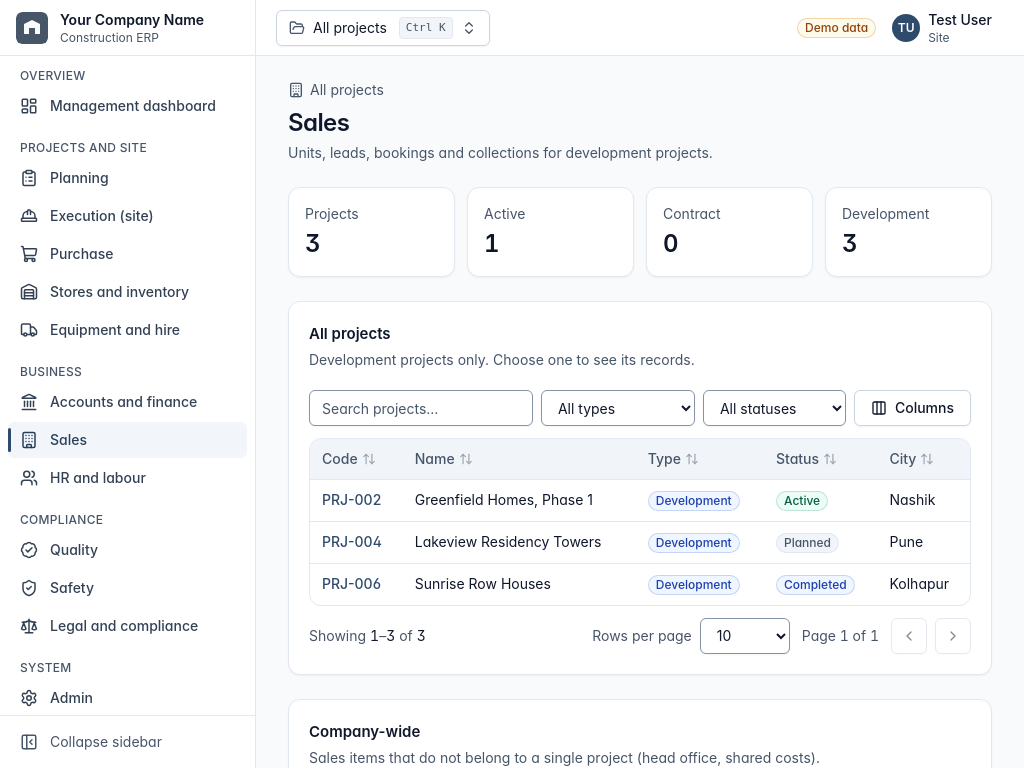
Test case: project switcher › in Sales, lists development projects only
Check: the button "PRJ-002" is shown, box x1=322 y1=490 x2=381 y2=510
Click the button with aria-label "Project: ". click: coordinates (383, 28)
box: x1=276 y1=10 x2=490 y2=46
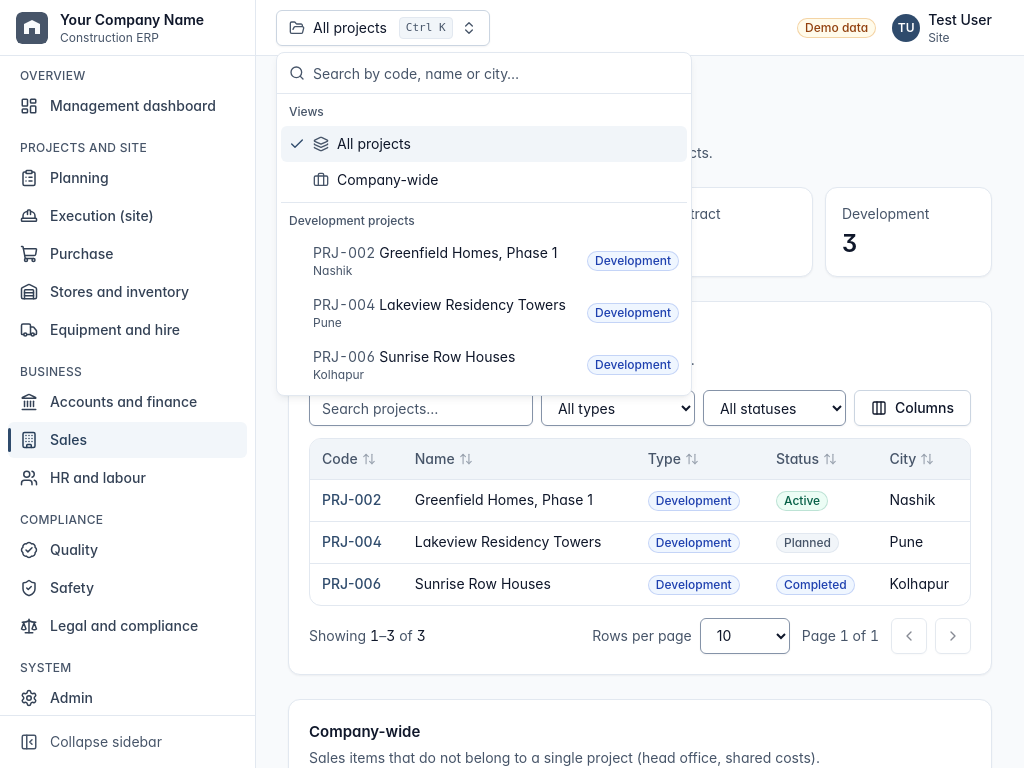
Check: the number of options "PRJ-002 Greenfield Homes, Phase 1 Nashik Development" is 3, box x1=281 y1=235 x2=687 y2=287; x1=281 y1=287 x2=687 y2=339; x1=281 y1=339 x2=687 y2=391
